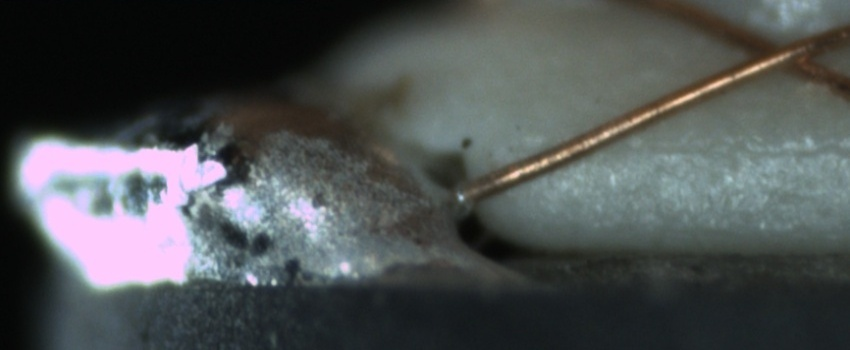CL: (717, 19, 840, 82)
DL: (553, 118, 850, 179)
